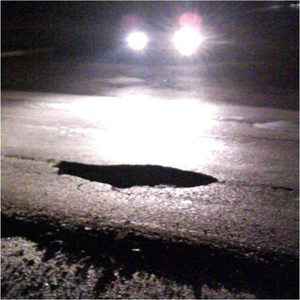pothole: (46, 157, 222, 194)
